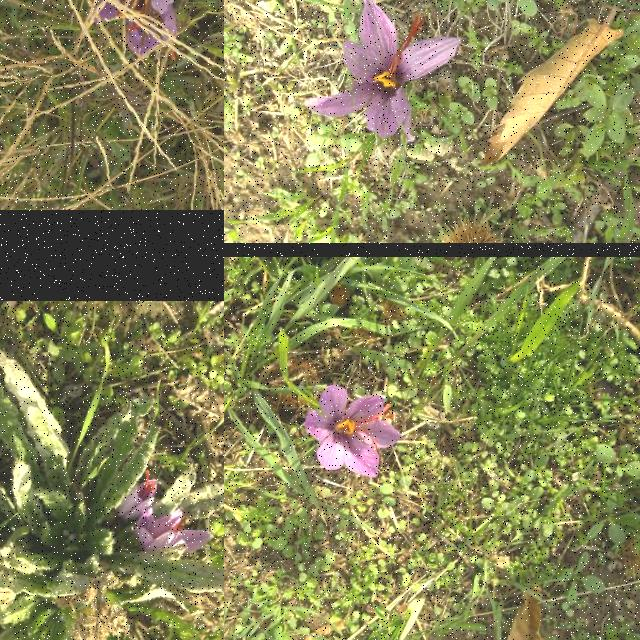flower: (303, 0, 462, 142), (304, 386, 402, 478), (93, 0, 176, 56)
overlap: (116, 470, 214, 554)
